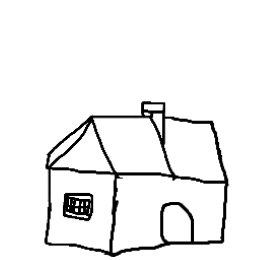bottom_placed_house: (3, 1, 260, 260)
chimney: (137, 92, 181, 147)
closed_window: (59, 188, 96, 228)
door: (152, 195, 209, 253)
roof: (32, 106, 236, 185)
wall: (105, 156, 232, 257)
